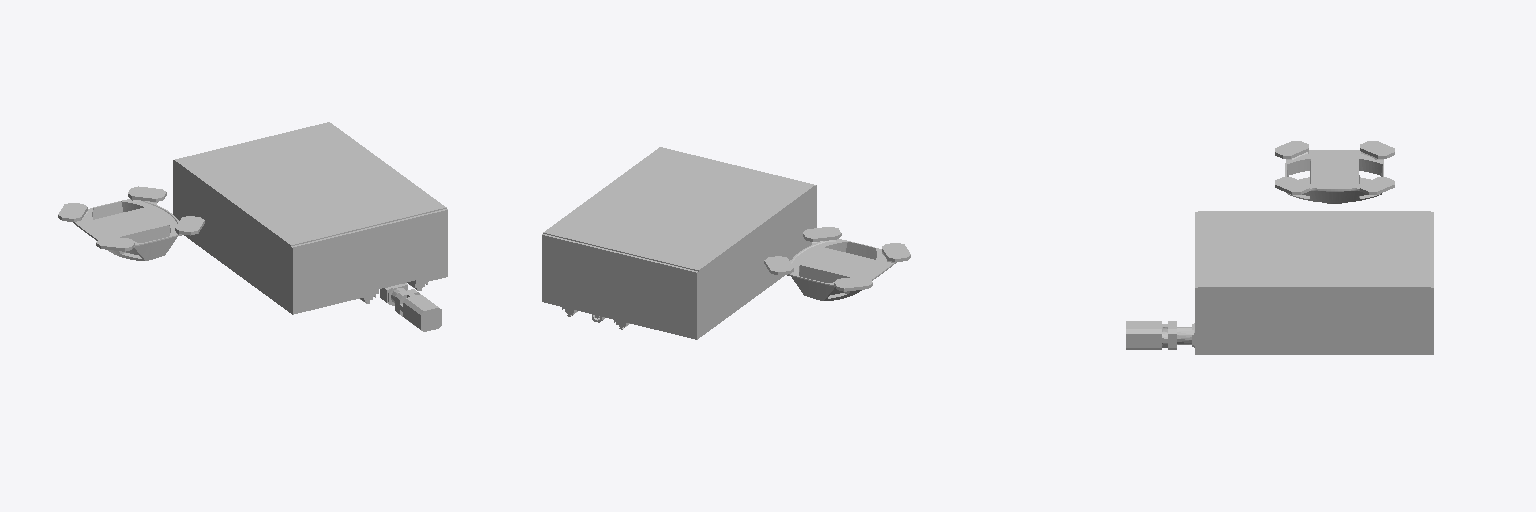
File: tisch_und_base_upside_down.obj
The picture shows the model from 3 angles: view 1: azimuth 30°, elevation 25°; view 2: azimuth 150°, elevation 25°; view 3: azimuth 270°, elevation 25°; orthographic projection.
Parts seen in each view (by area): view 1: avs.001, L0; view 2: avs.001, L0; view 3: avs.001, L0.
Part boxes in pixels (left/top/right/bottom): avs.001: left=173, top=122, right=447, bottom=331; L0: left=58, top=186, right=204, bottom=260; avs.001: left=542, top=147, right=816, bottom=339; L0: left=764, top=227, right=910, bottom=300; avs.001: left=1126, top=211, right=1433, bottom=354; L0: left=1275, top=141, right=1394, bottom=203.
Size of the model in its own units: 2.88 by 0.7785 by 2.57.